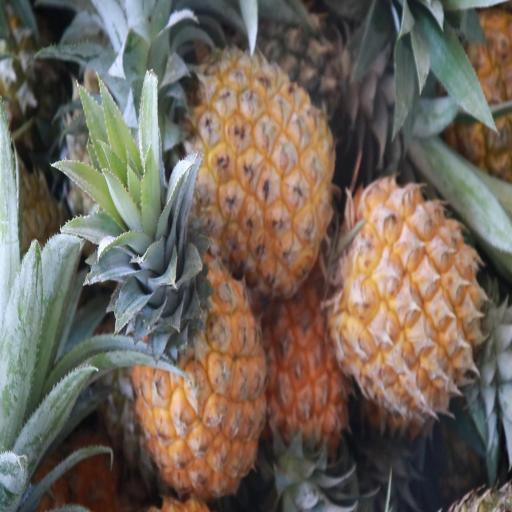Pineapple - v8 v1: (134, 188, 265, 494), (190, 42, 336, 294), (334, 174, 482, 420), (266, 294, 350, 505)
